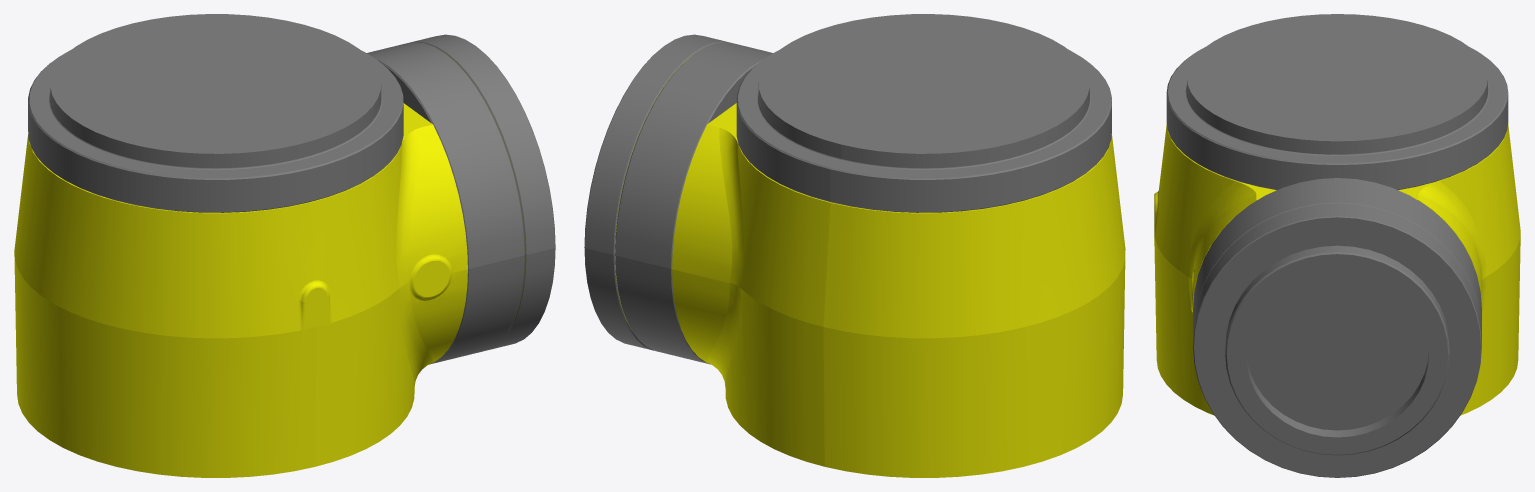
3 renders of one model, left to right at view 1: azimuth 30°, elevation 25°; view 2: azimuth 150°, elevation 25°; view 3: azimuth 270°, elevation 25°, orthographic. The views are drawn at different scales.
Parts seen in each view (by area): view 1: Mesh_0; view 2: Mesh_0; view 3: Mesh_0.
Boxes of the visible parts, x1,y1,x2,y2 form: Mesh_0: (14, 14, 555, 477); Mesh_0: (584, 14, 1125, 477); Mesh_0: (1154, 14, 1520, 477).
Bounding box in the file's own units: 0.1525 × 0.1012 × 0.118.
